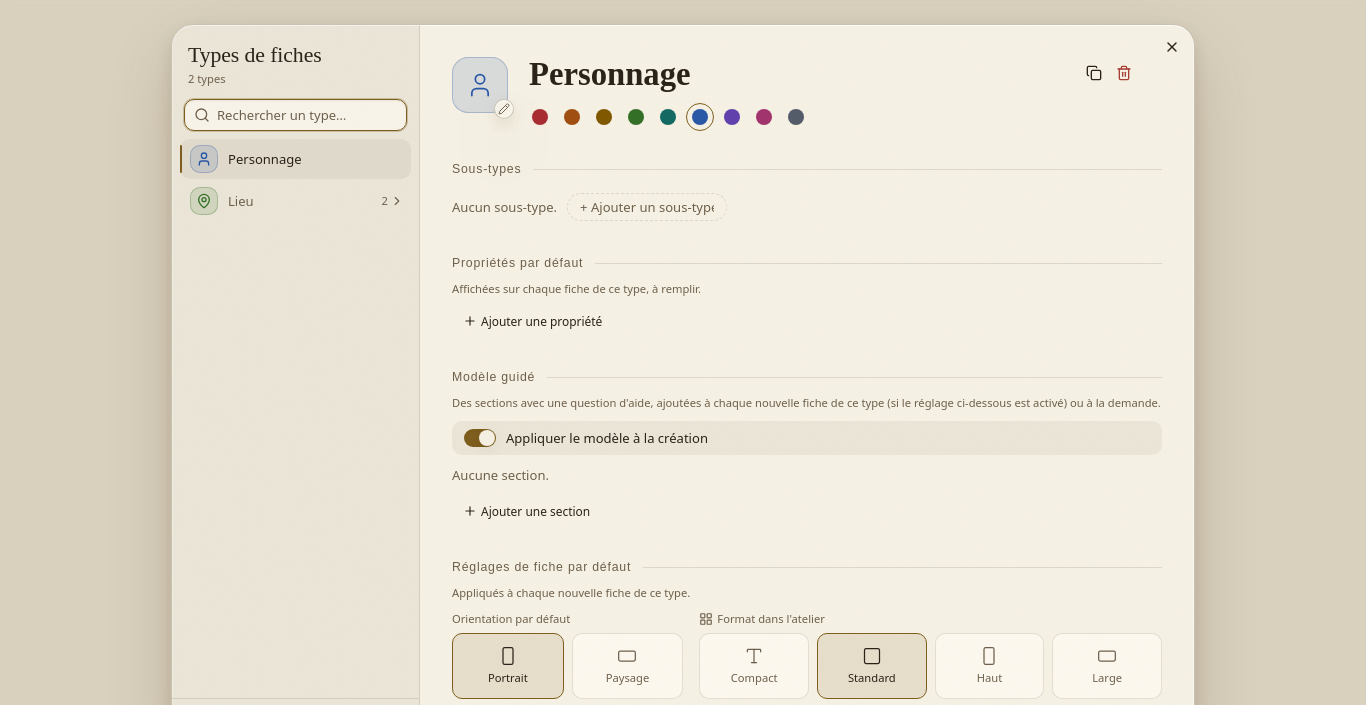
Test case: deleting a type asks first and mentions its subtypes
The image size is (1366, 705).
Click the button "Lieu": (277, 201) [180, 181, 375, 221]
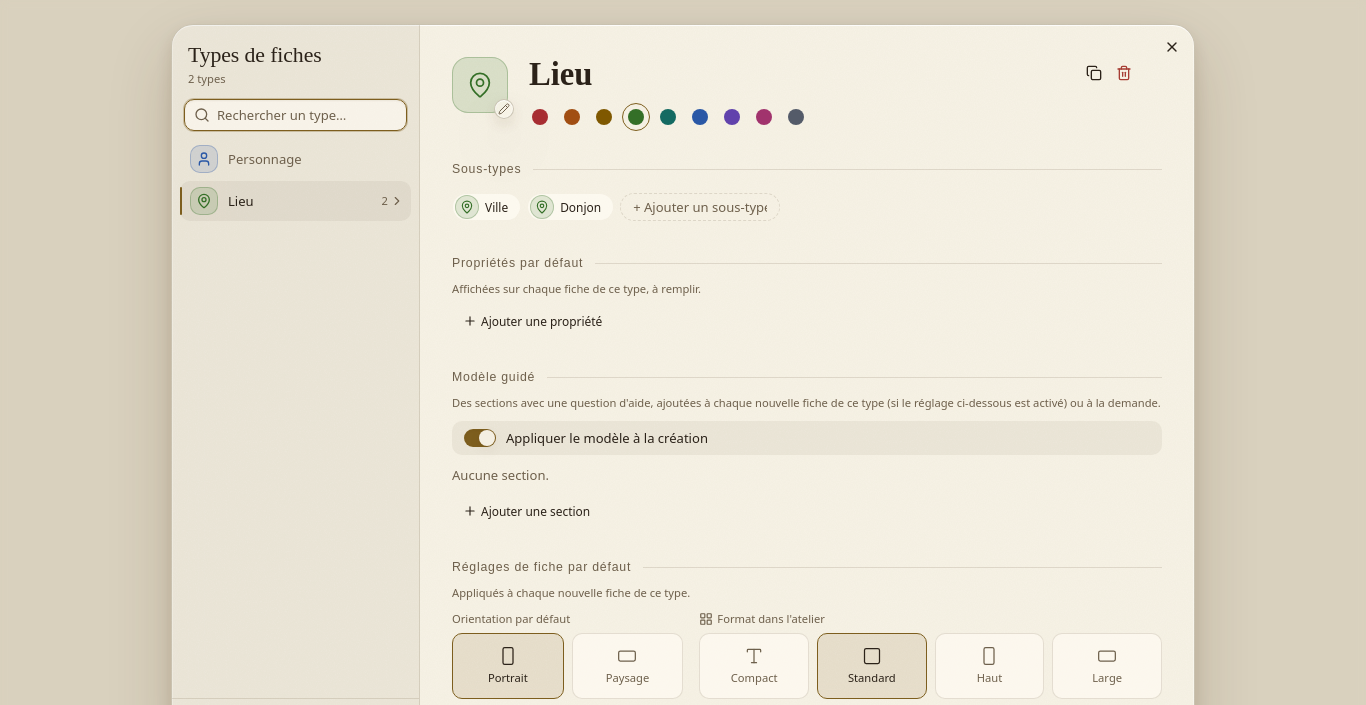
Expected: the field named "Nom du type" holds "Lieu", [524, 53, 1064, 95]
Click the button named "Supprimer": (1124, 73) [1110, 59, 1138, 87]
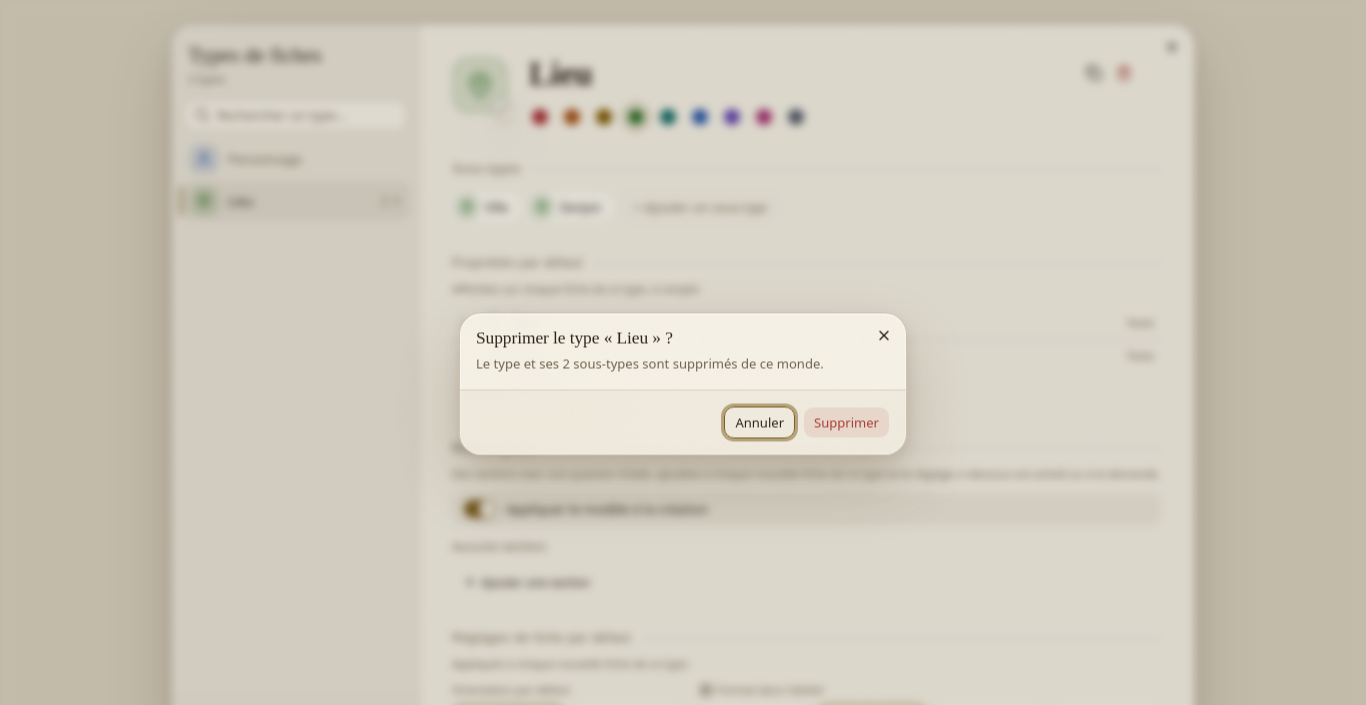
Expected: the text "Le type et ses 2 sous-types sont supprimés de ce monde." is shown, [476, 354, 824, 372]
Expected: the button "Supprimer" is enabled
Enabled once the number of cards of the type is known (none here).
Click the button "Supprimer": (846, 422) [803, 406, 890, 438]
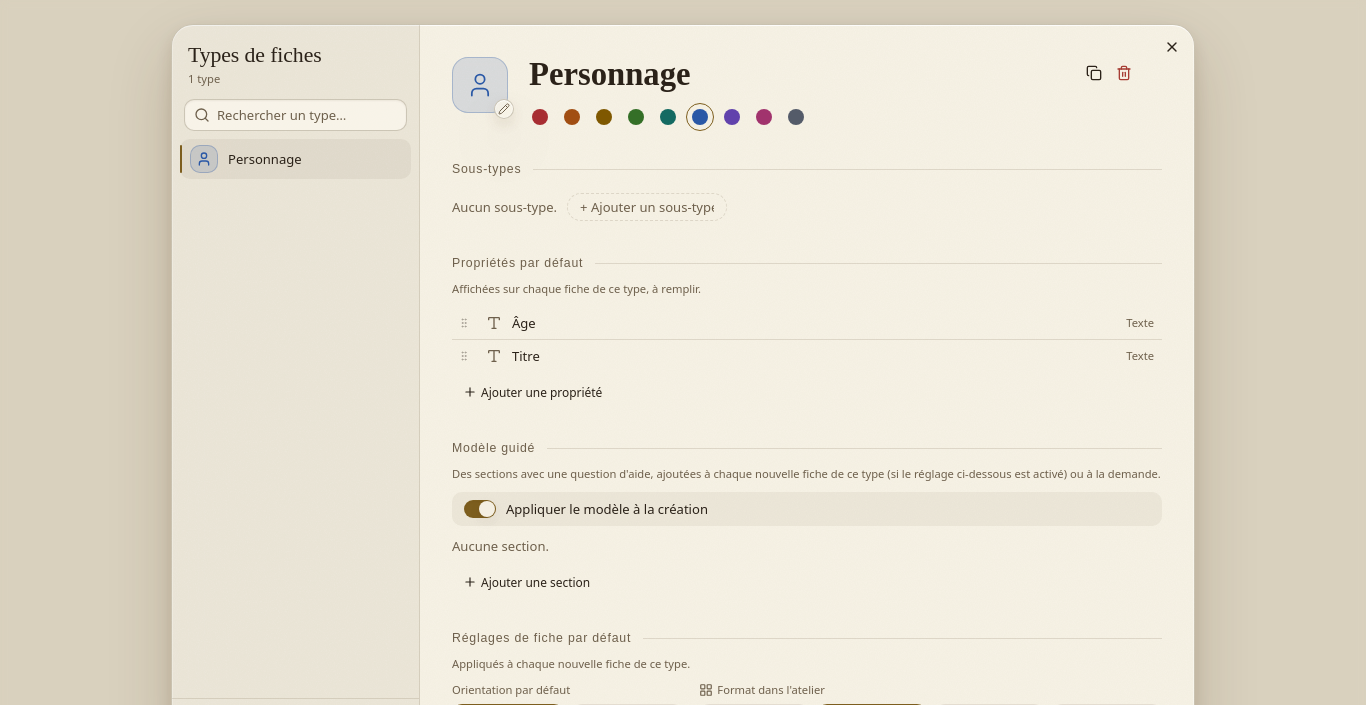
Expected: the button "Lieu" is gone
